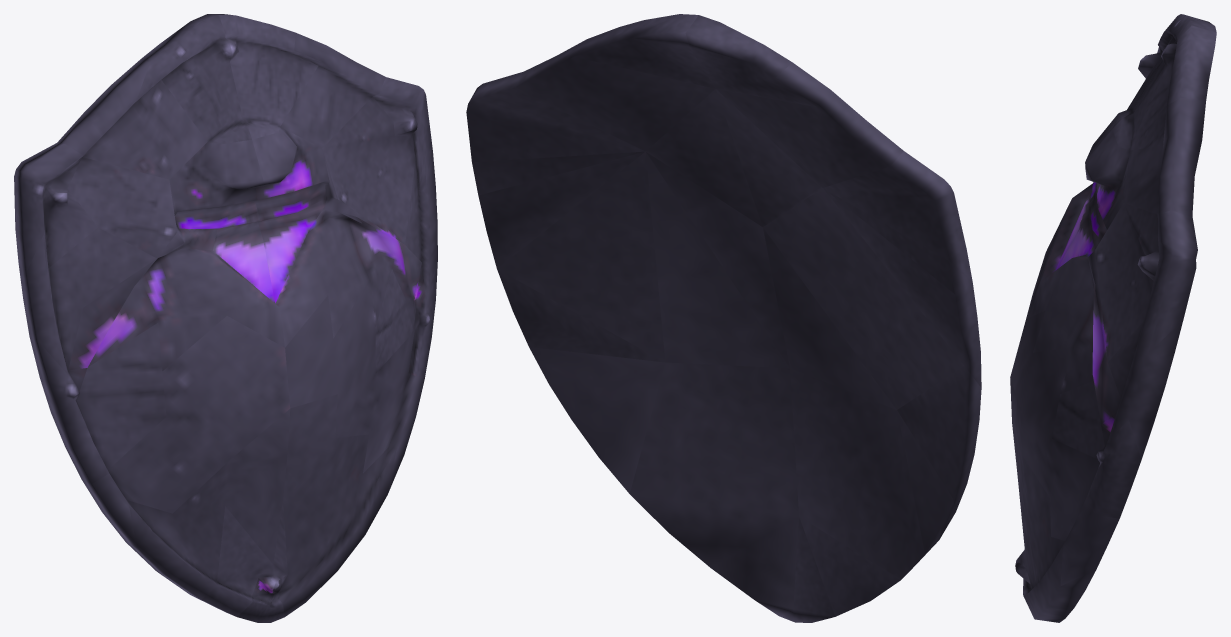
The model's file is f_shield_clan.fbx.
3 renders of one model, left to right at view 1: azimuth 30°, elevation 25°; view 2: azimuth 150°, elevation 25°; view 3: azimuth 270°, elevation 25°, orthographic. The views are drawn at different scales.
Visible parts, largest first — view 1: tripo_node_fcca1977-9590-4912-9bb4-1b1cb7e4210f; view 2: tripo_node_fcca1977-9590-4912-9bb4-1b1cb7e4210f; view 3: tripo_node_fcca1977-9590-4912-9bb4-1b1cb7e4210f.
Boxes of the visible parts, box(x1,y1,x2,y2) form: tripo_node_fcca1977-9590-4912-9bb4-1b1cb7e4210f: box(14, 14, 437, 622); tripo_node_fcca1977-9590-4912-9bb4-1b1cb7e4210f: box(466, 14, 981, 622); tripo_node_fcca1977-9590-4912-9bb4-1b1cb7e4210f: box(1010, 14, 1216, 622).
Size of the model in its own units: 0.6598 by 0.85 by 0.2645.
1 material, 1 textured.
